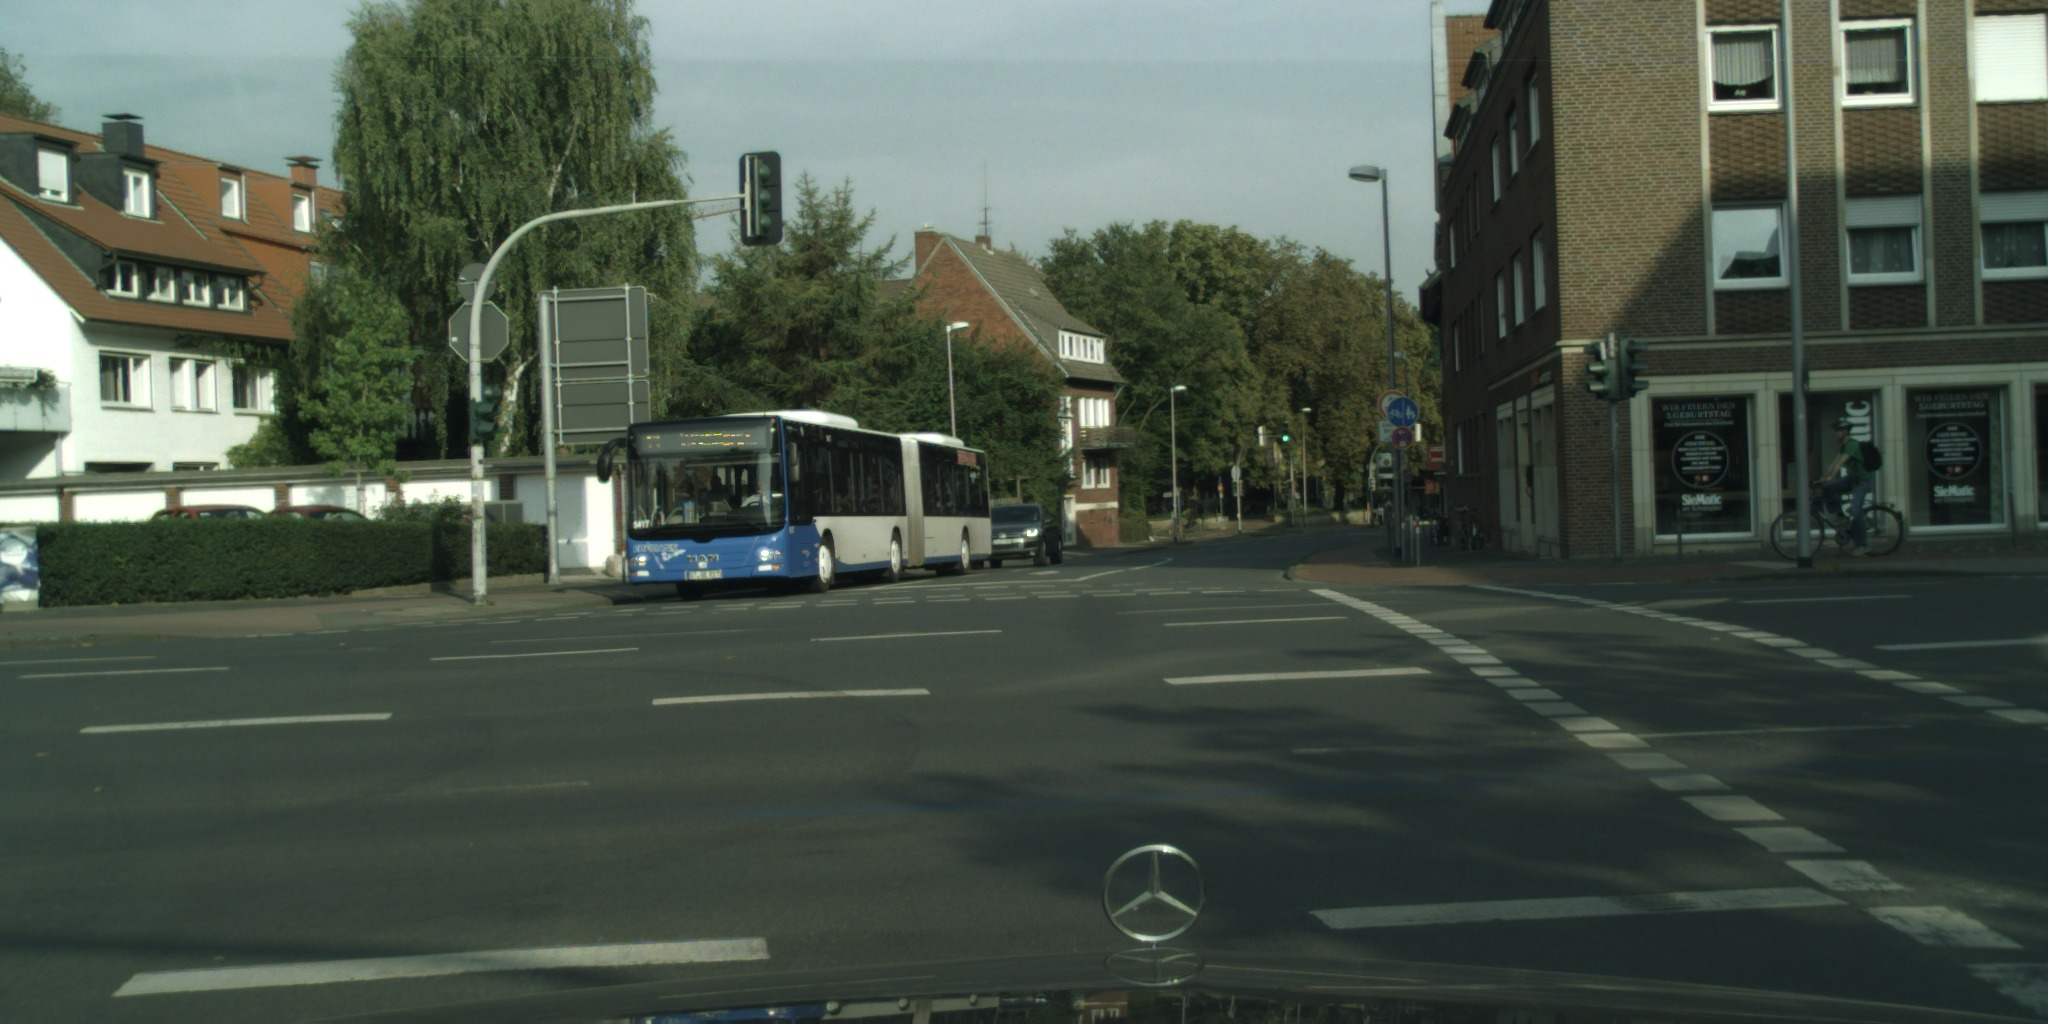bicycle: (1769, 479, 1905, 561), (1453, 505, 1477, 551), (1429, 510, 1448, 547)
bus: (595, 409, 993, 599)
car: (969, 503, 1063, 569), (251, 505, 376, 536), (149, 504, 272, 528)
person: (1382, 499, 1395, 531), (1376, 504, 1385, 526)
rider: (1812, 419, 1885, 552), (1824, 475, 1855, 527)
